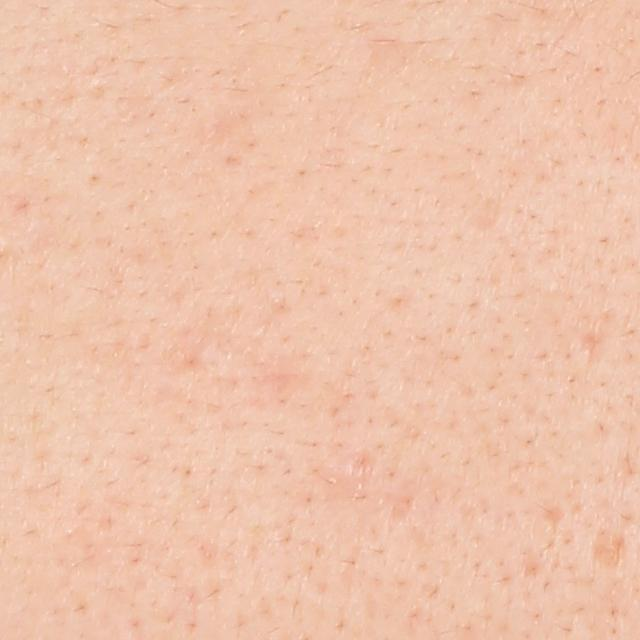atrophic_scar: (586, 525, 627, 574), (575, 328, 610, 375), (539, 501, 571, 539)
